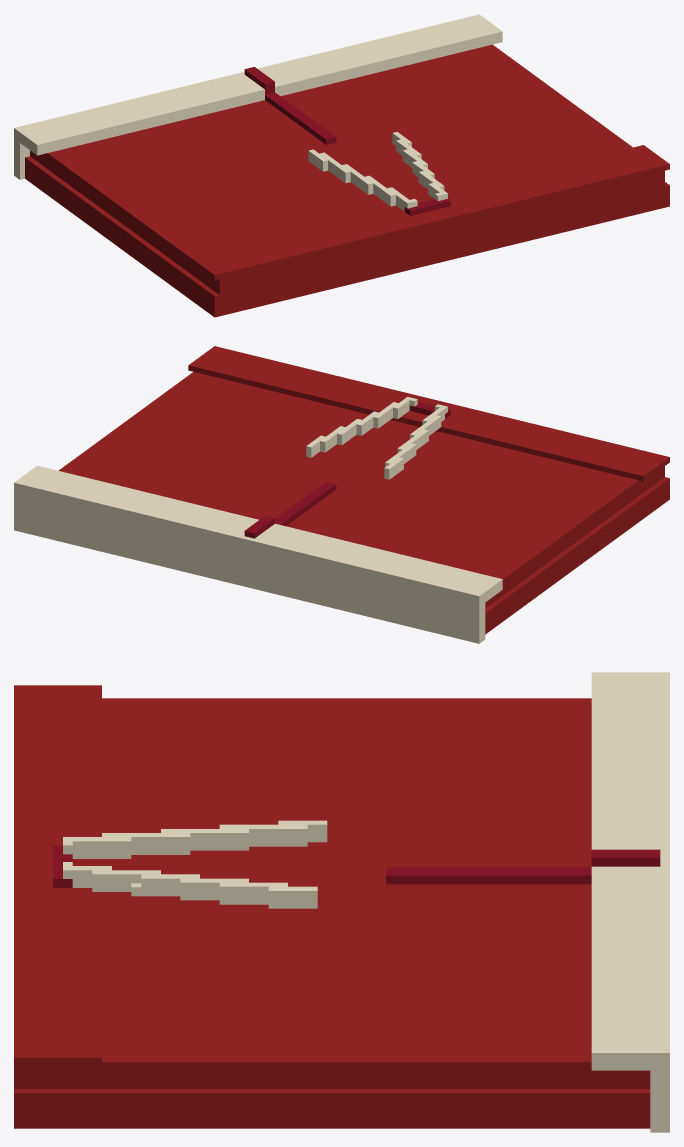
Rendered from santa_shorts.glb.
3 views of the same model, one above another, from view 1: azimuth 30°, elevation 25°; view 2: azimuth 150°, elevation 25°; view 3: azimuth 270°, elevation 25° (orthographic). The views are drawn at different scales.
Visible parts, largest first — view 1: santa_shorts:compound; view 2: santa_shorts:compound; view 3: santa_shorts:compound.
Part boxes in pixels (x1,y1,x2,y2): santa_shorts:compound: (14,14,669,317); santa_shorts:compound: (14,346,669,643); santa_shorts:compound: (14,672,669,1132).
Size of the model in its own units: 0.368 by 0.04 by 0.268.
